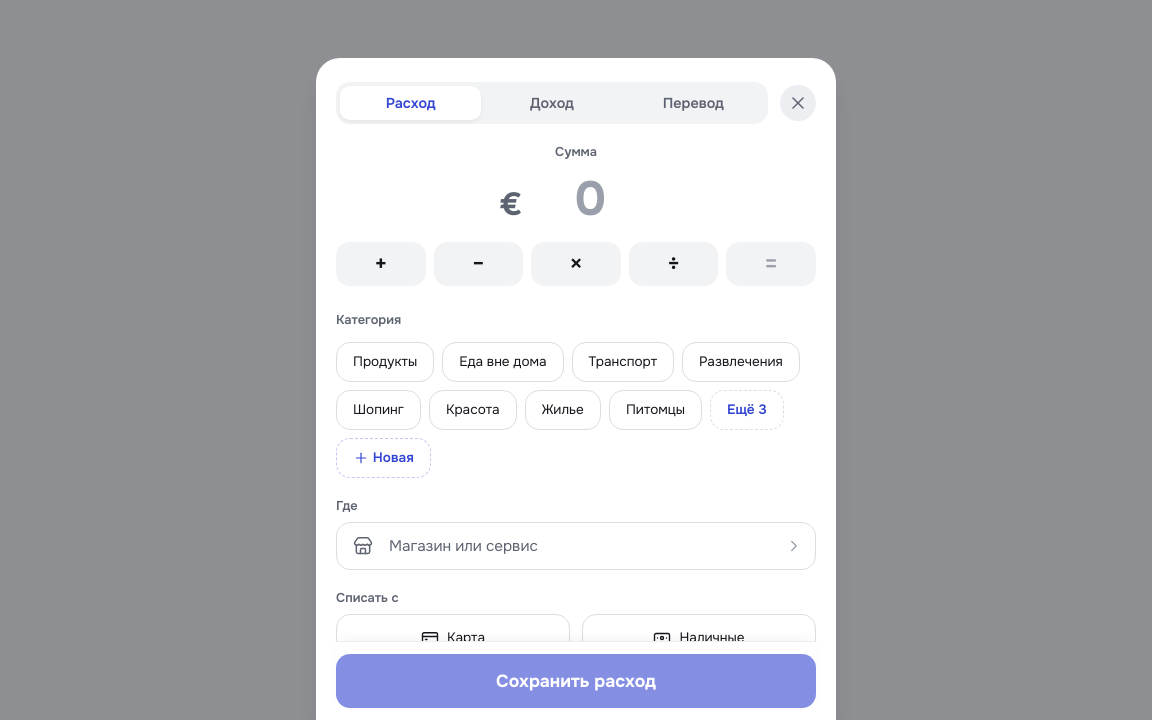
Test case: AddTransactionForm Component › enables the save button once an account is picked
Type "30" into the field with placeholder "0".
click(590, 199); type("30")  # box [526, 168, 653, 230]
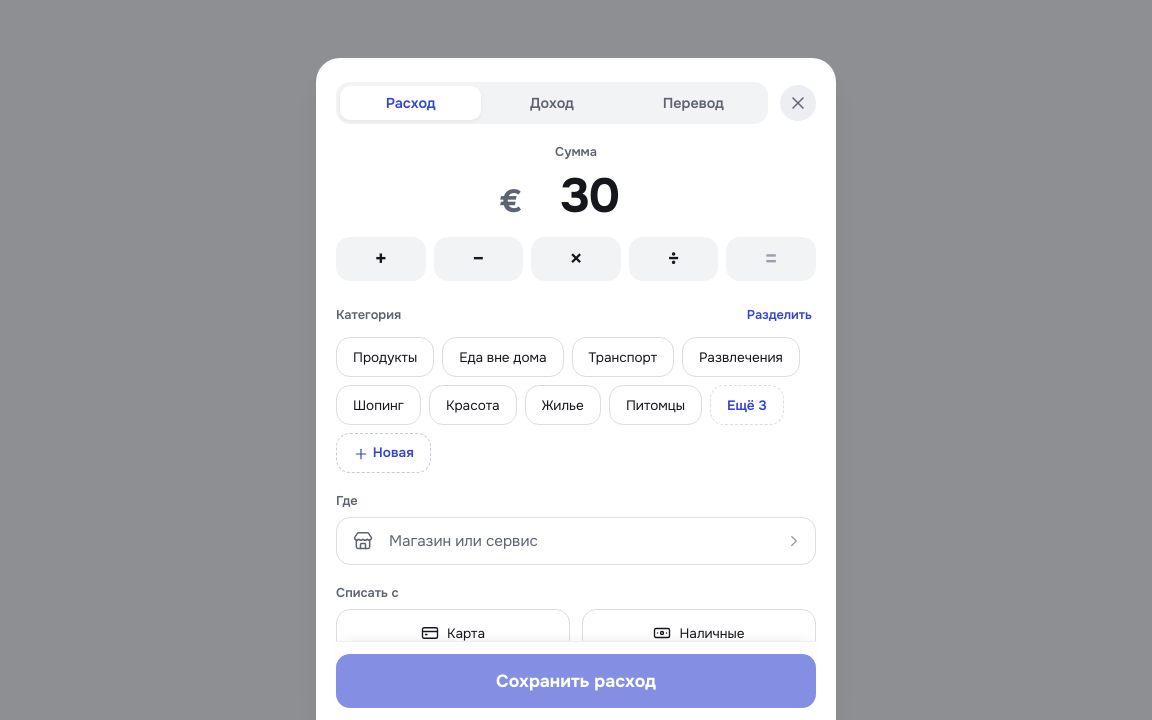
Click the button "Продукты".
click(385, 357)  # box [336, 337, 434, 377]
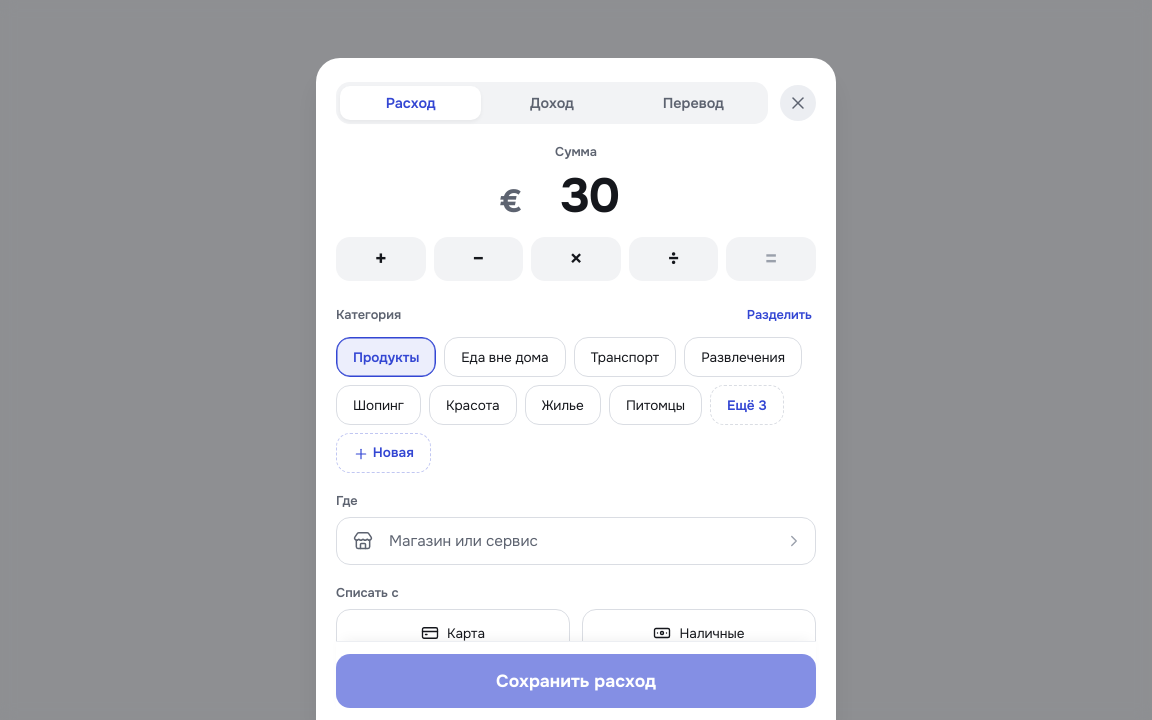
Expected: the button "Сохранить расход" is disabled, [336, 654, 816, 708]
Click the button "Карта".
click(453, 633)  # box [336, 609, 570, 657]
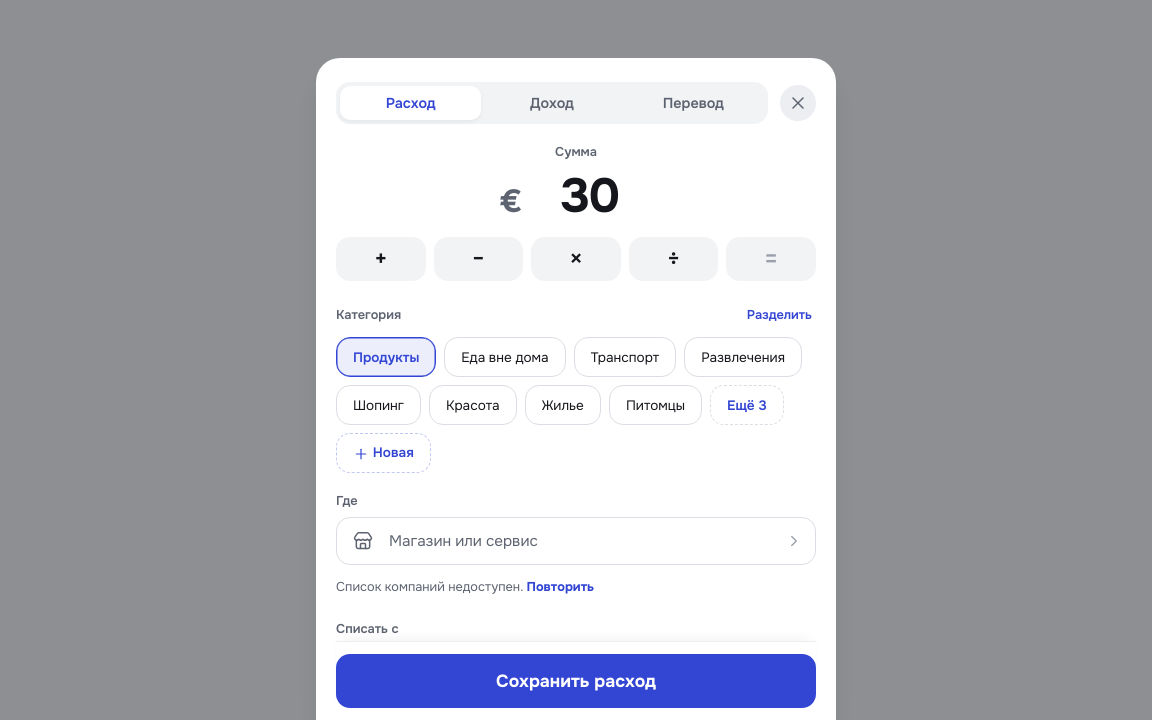
Expected: the button "Сохранить расход" is enabled, [336, 654, 816, 708]
